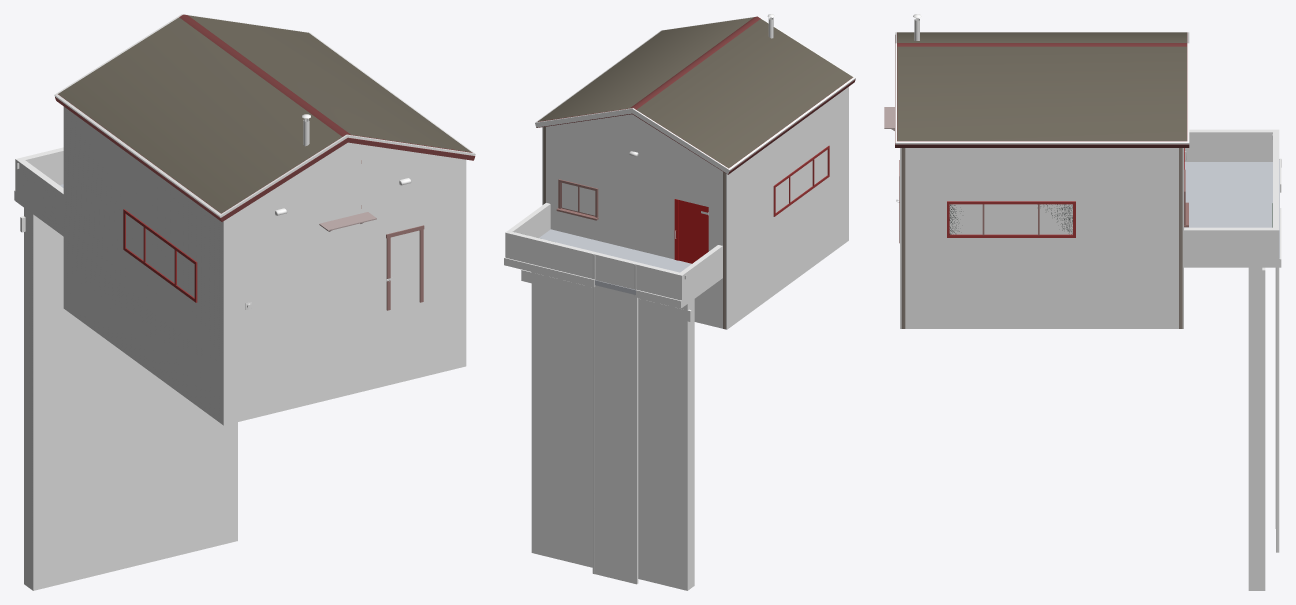
The model's file is eca_bld_fv_house_f.DAE.
3 renders of one model, left to right at view 1: azimuth 30°, elevation 25°; view 2: azimuth 150°, elevation 25°; view 3: azimuth 270°, elevation 25°, orthographic. The views are drawn at different scales.
Parts seen in each view (by area): view 1: Colmesh-1, eca_bld_fv_house_f250; view 2: Colmesh-1, eca_bld_fv_house_f250; view 3: Colmesh-1, eca_bld_fv_house_f250.
Boxes of the visible parts, x1=… form: Colmesh-1: x1=15, y1=14, x2=475, y2=590; eca_bld_fv_house_f250: x1=14, y1=14, x2=475, y2=589; Colmesh-1: x1=505, y1=16, x2=855, y2=590; eca_bld_fv_house_f250: x1=504, y1=14, x2=855, y2=574; Colmesh-1: x1=895, y1=32, x2=1279, y2=590; eca_bld_fv_house_f250: x1=884, y1=14, x2=1281, y2=552.
Bounding box in the file's own units: 7.39 × 11.21 × 16.37.
